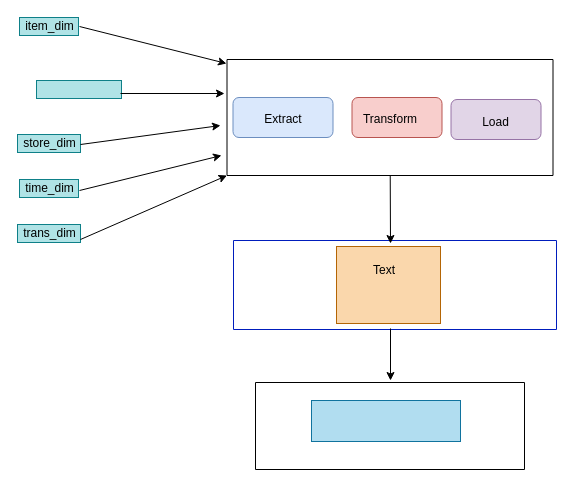
The diagram is 574 pixels wide and 487 high, and some of its shapes have lost their labels. The shapes that lost their labels are listed below. From the top down, each one's box as (x1, y1, x2, y2) in pixels, then its label:
(36, 80, 122, 98): customer_dim
(336, 246, 440, 324): Data WareHouse
(310, 400, 460, 442): DSS Reporting/Cross Tabs
